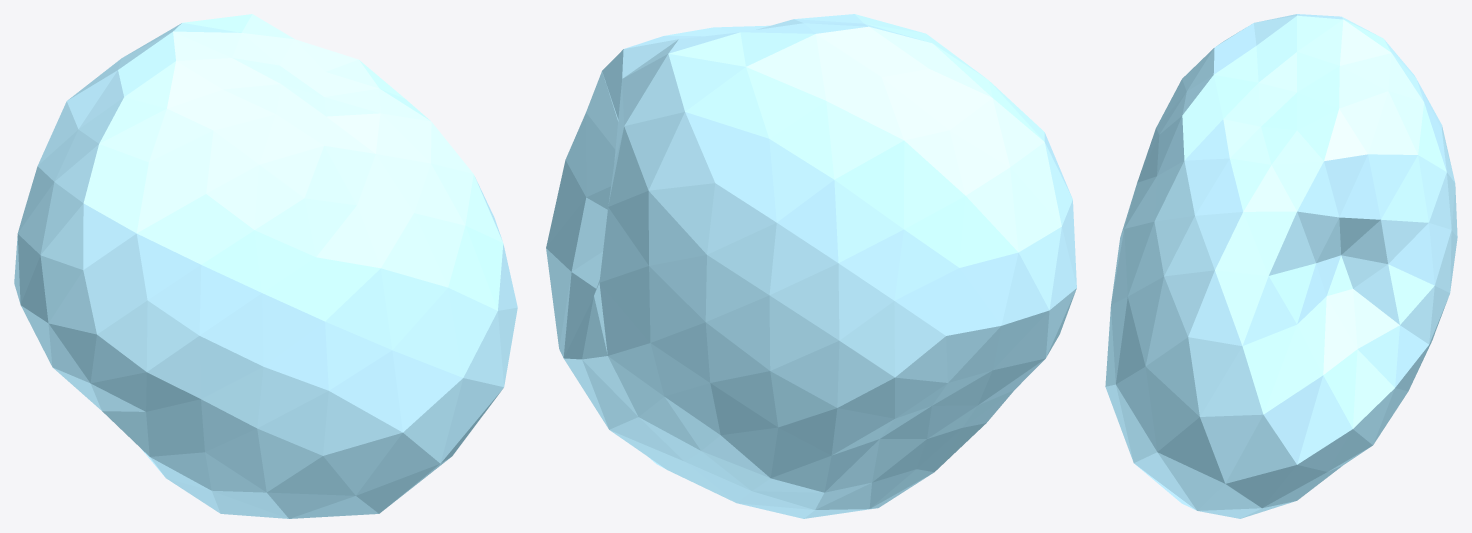
File: asteroid_c_far.glb
3 renders of one model, left to right at view 1: azimuth 30°, elevation 25°; view 2: azimuth 150°, elevation 25°; view 3: azimuth 270°, elevation 25°, orthographic. The views are drawn at different scales.
Parts seen in each view (by area): view 1: asteroid_c_far; view 2: asteroid_c_far; view 3: asteroid_c_far.
Boxes of the visible parts, <box> form: asteroid_c_far: <box>14,14,517,518</box>; asteroid_c_far: <box>546,14,1076,518</box>; asteroid_c_far: <box>1105,14,1457,518</box>.
Size of the model in its own units: 21.05 by 20.27 by 14.97.
